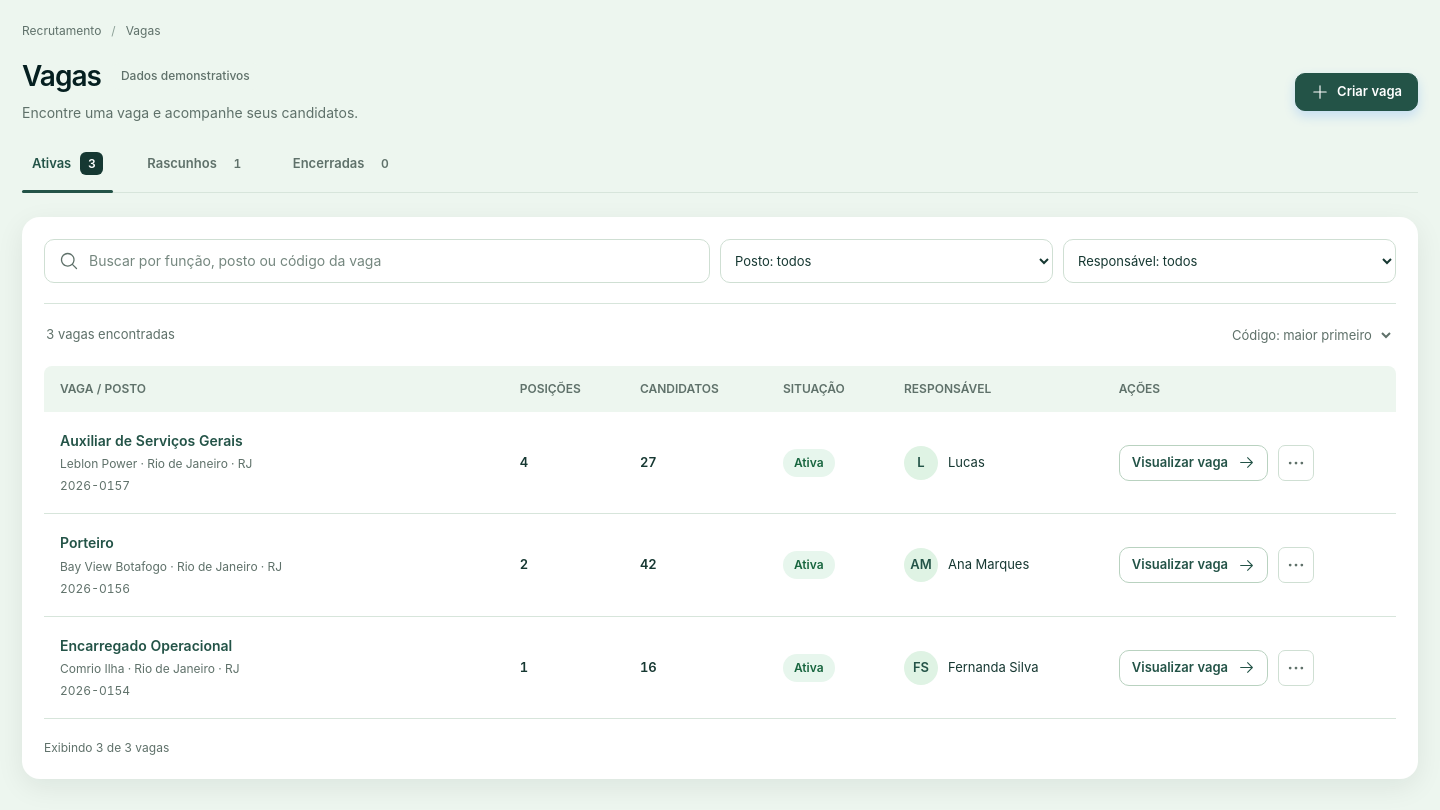
Test: Lista operacional de vagas › combines post and owner filters and ignores accents in search
Step 1. Type "servicos" into the search field labelled "Buscar por função, posto ou código da vaga" → [392, 261], box [89,250,695,272]
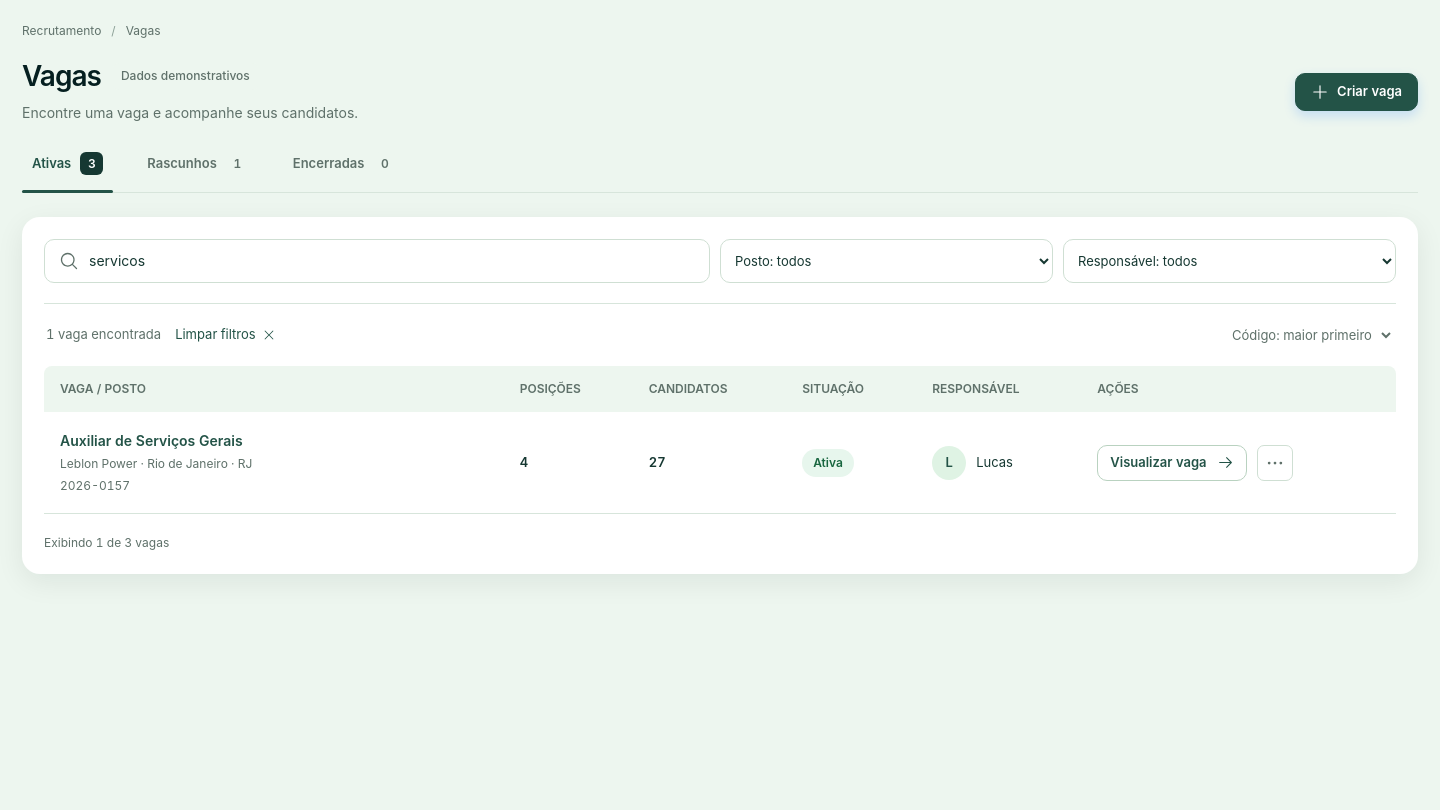
Expected: the button "Auxiliar de Serviços Gerais" is shown, [60,430,243,451]
Step 2. Select "Ana Marques" in the dropdown named "Filtrar por responsável" → [1230, 261], box [1063,239,1396,283]
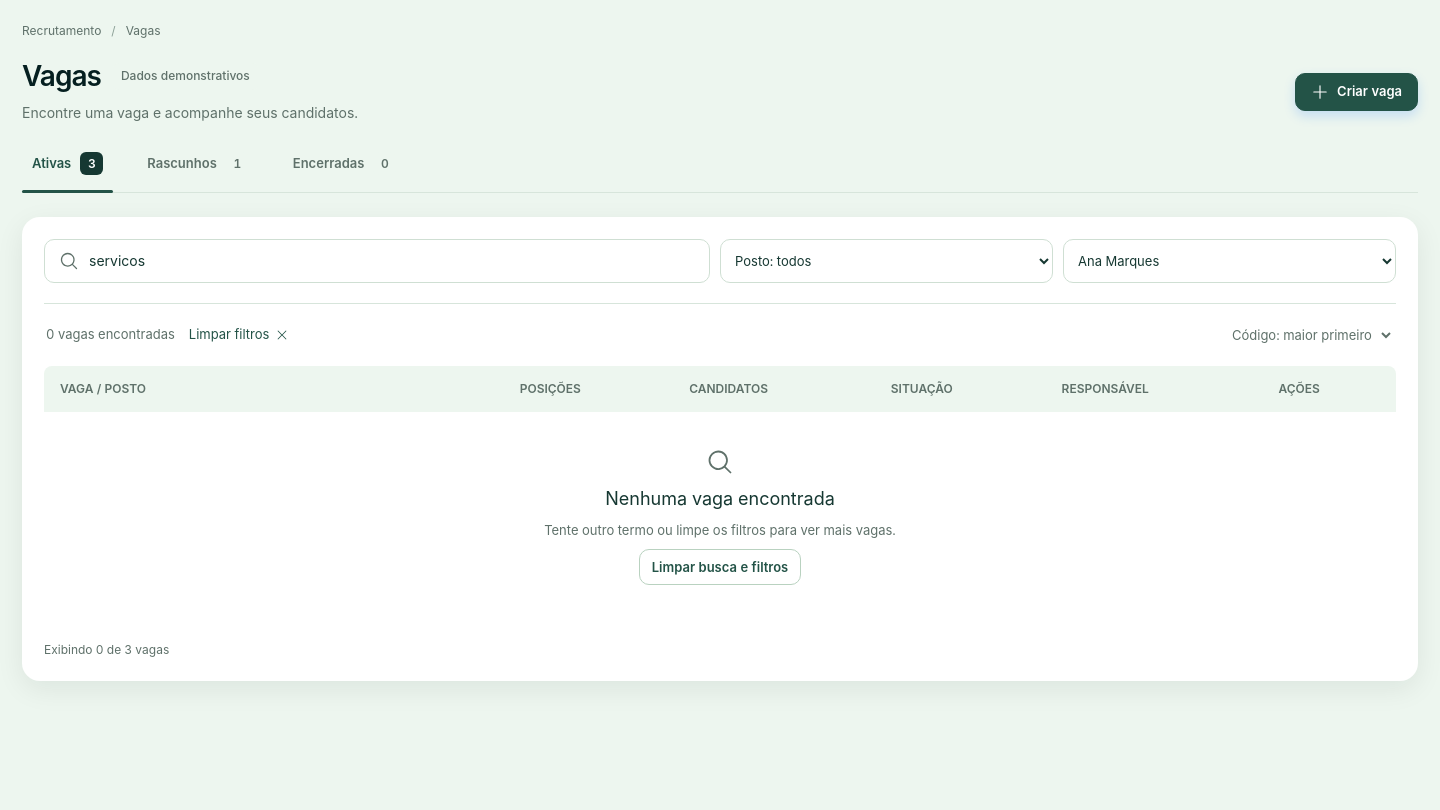
Now the heading "Nenhuma vaga encontrada" is shown, box [605,485,835,512]
Step 3. Clear the search field named "Buscar por função" → [392, 261], box [89,250,695,272]
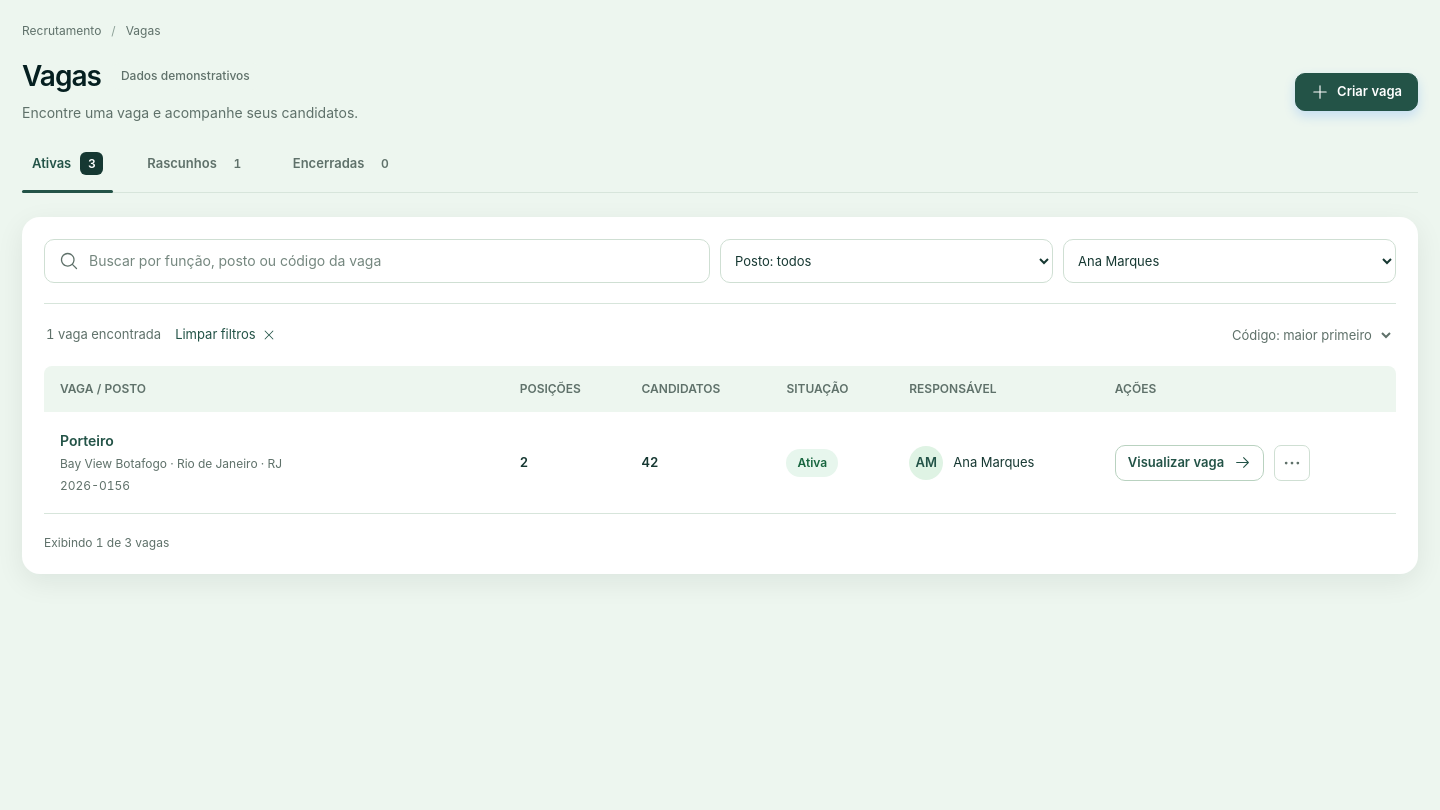
Now the button "Porteiro" is shown, box [60,430,114,451]
